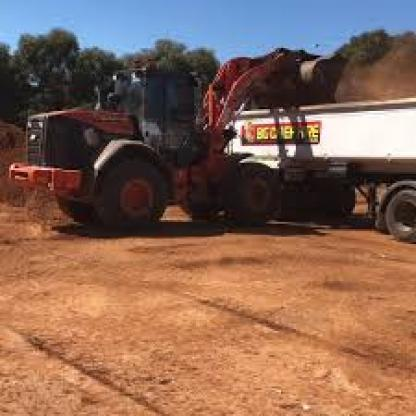bull_dozer/loader/grader: (26, 43, 353, 228)
